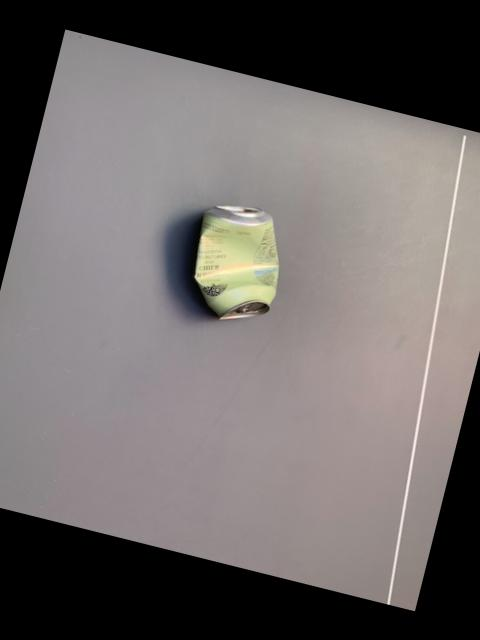metal: (194, 207, 279, 321)
